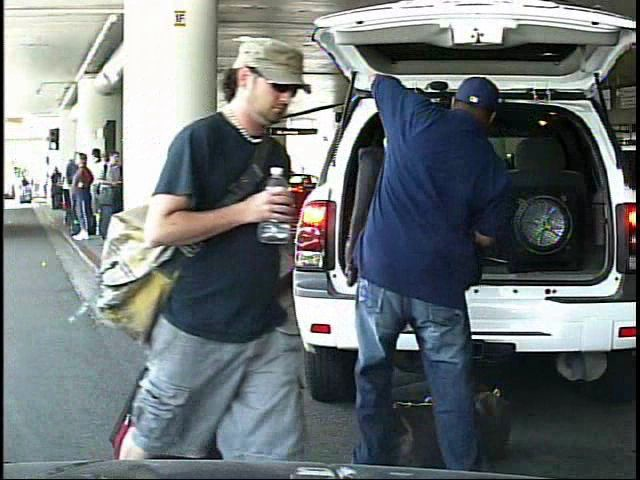person: (334, 34, 532, 478), (138, 21, 325, 480), (131, 124, 249, 351), (13, 174, 24, 205)
